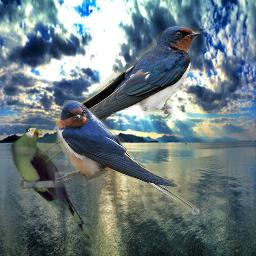Cuckoo: (10, 126, 103, 246)
Swallow: (38, 26, 202, 163), (55, 100, 200, 215)
